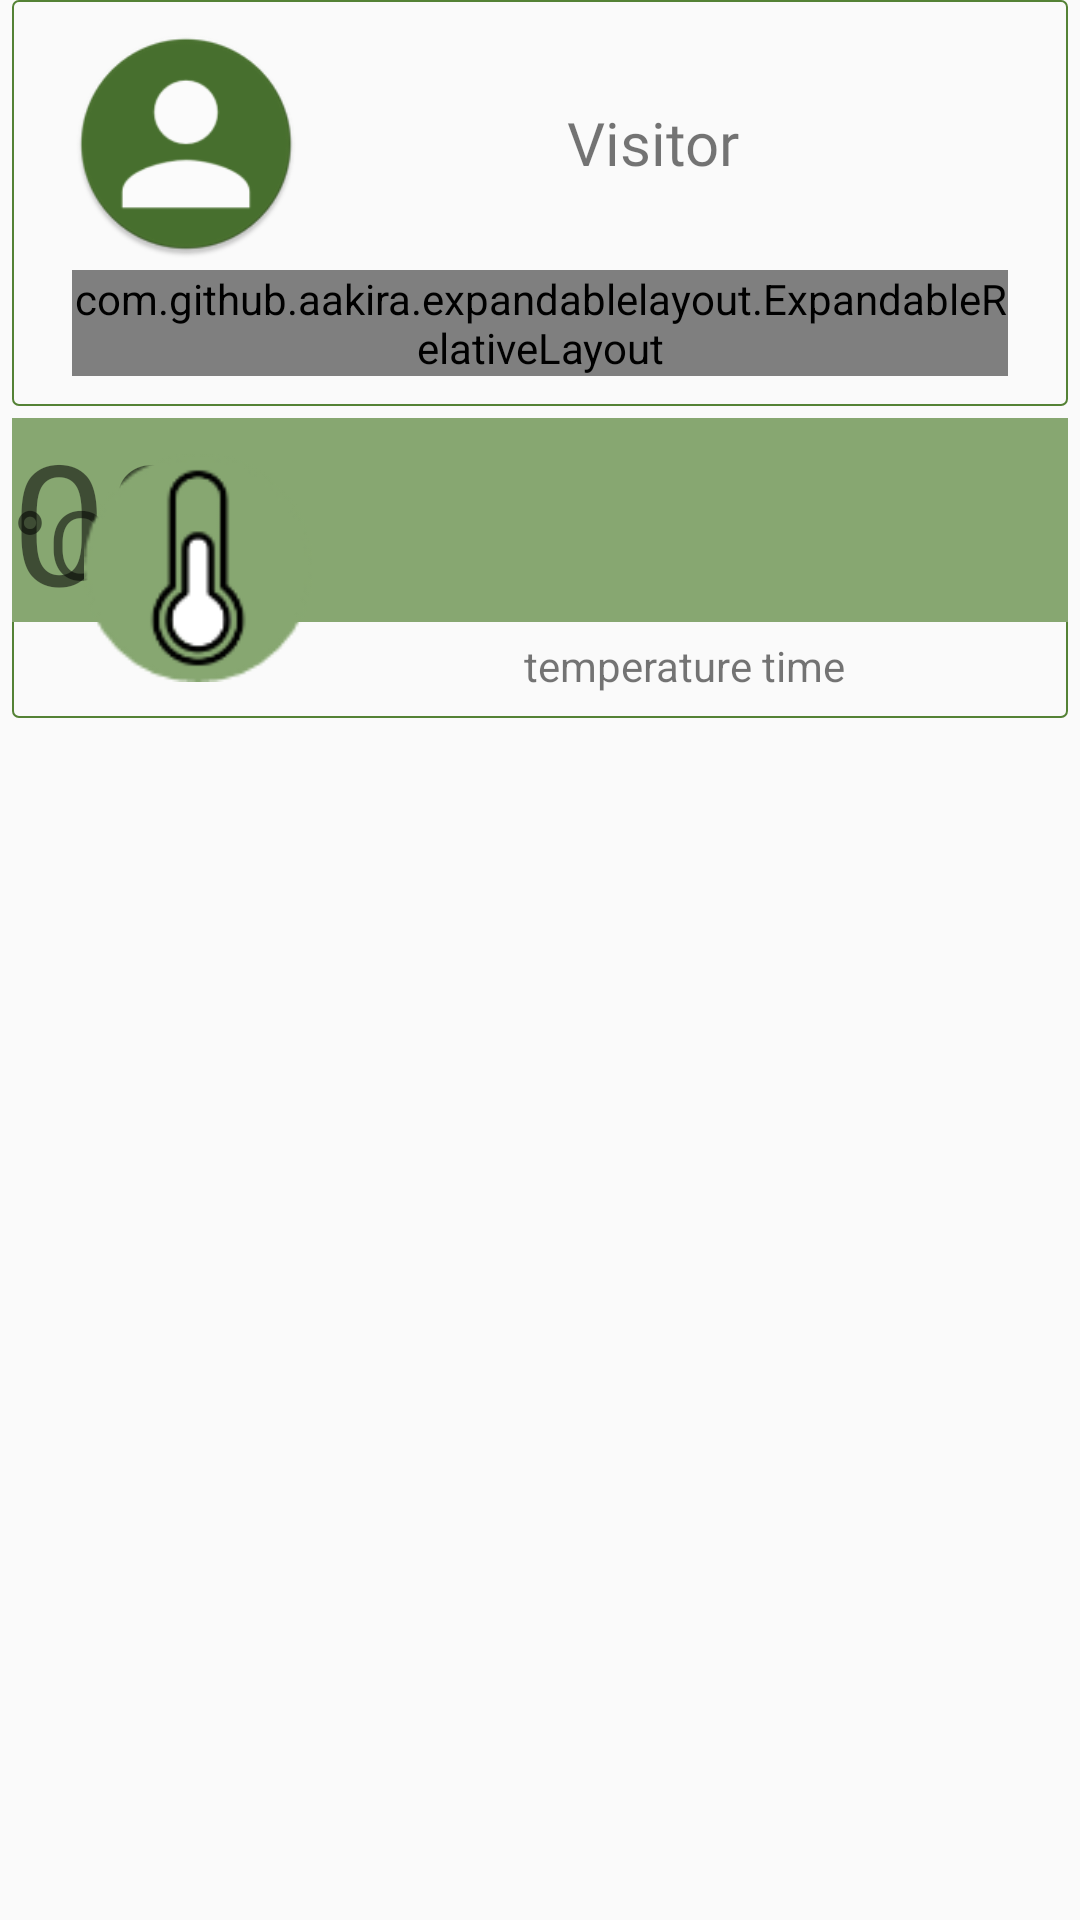

Where to tap for icons on this 1080*1920 app screen, as [x,y]:
thermometer: [198,568]
visitor photo: [186,146]
